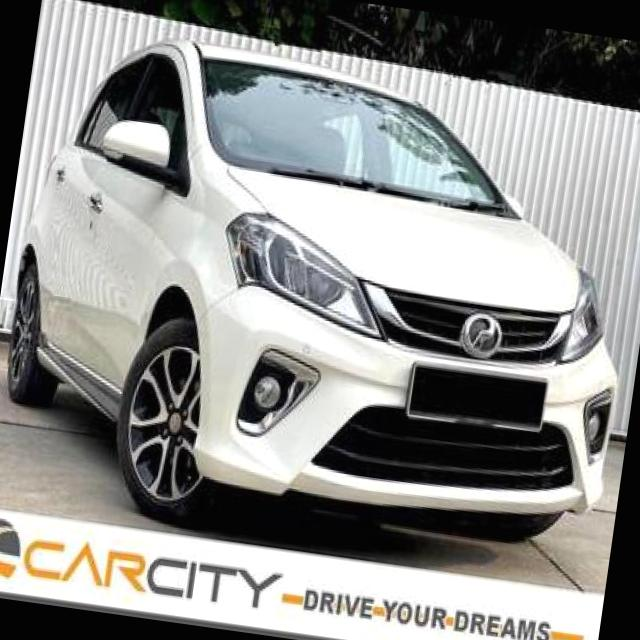PeroduaMyvi: (0, 16, 640, 579)
